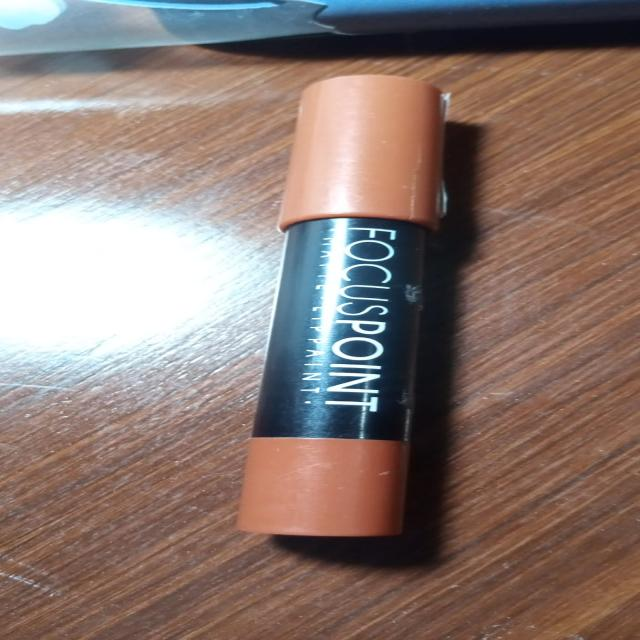lip liner: (216, 45, 470, 578)
